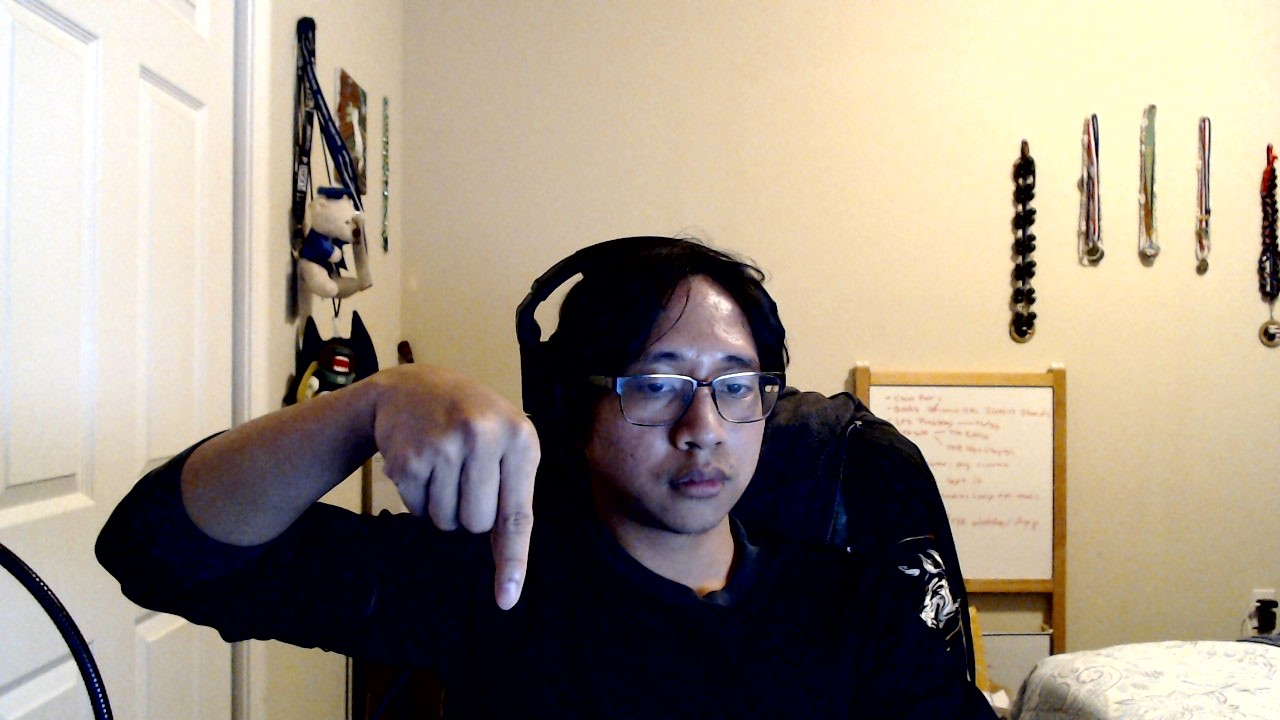q: (371, 363, 543, 612)
